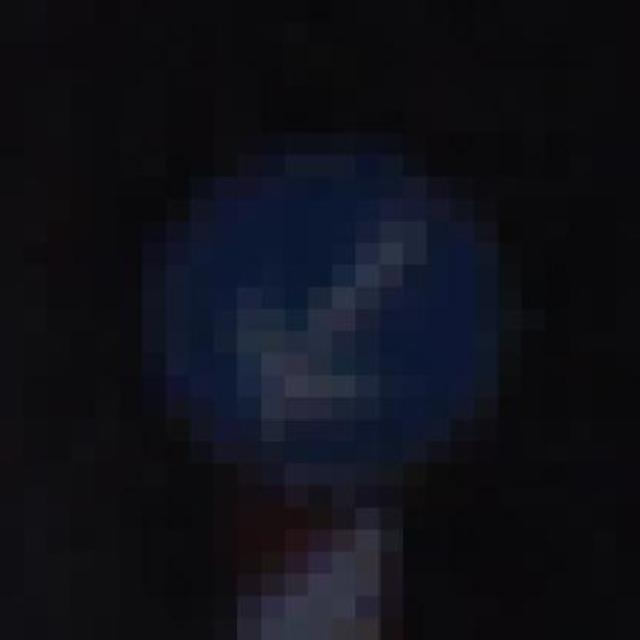Keep-Left: (142, 110, 569, 508)
